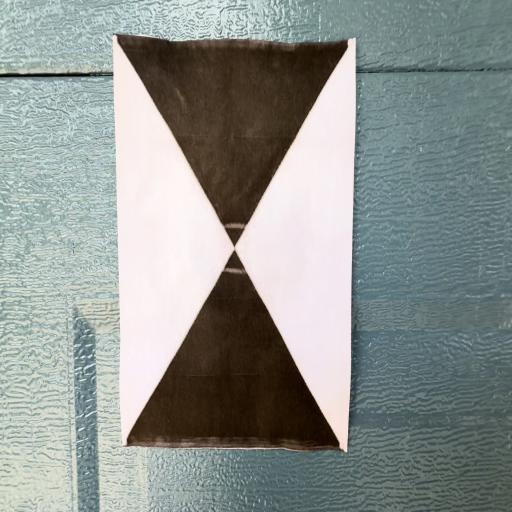target: (113, 36, 348, 450)
